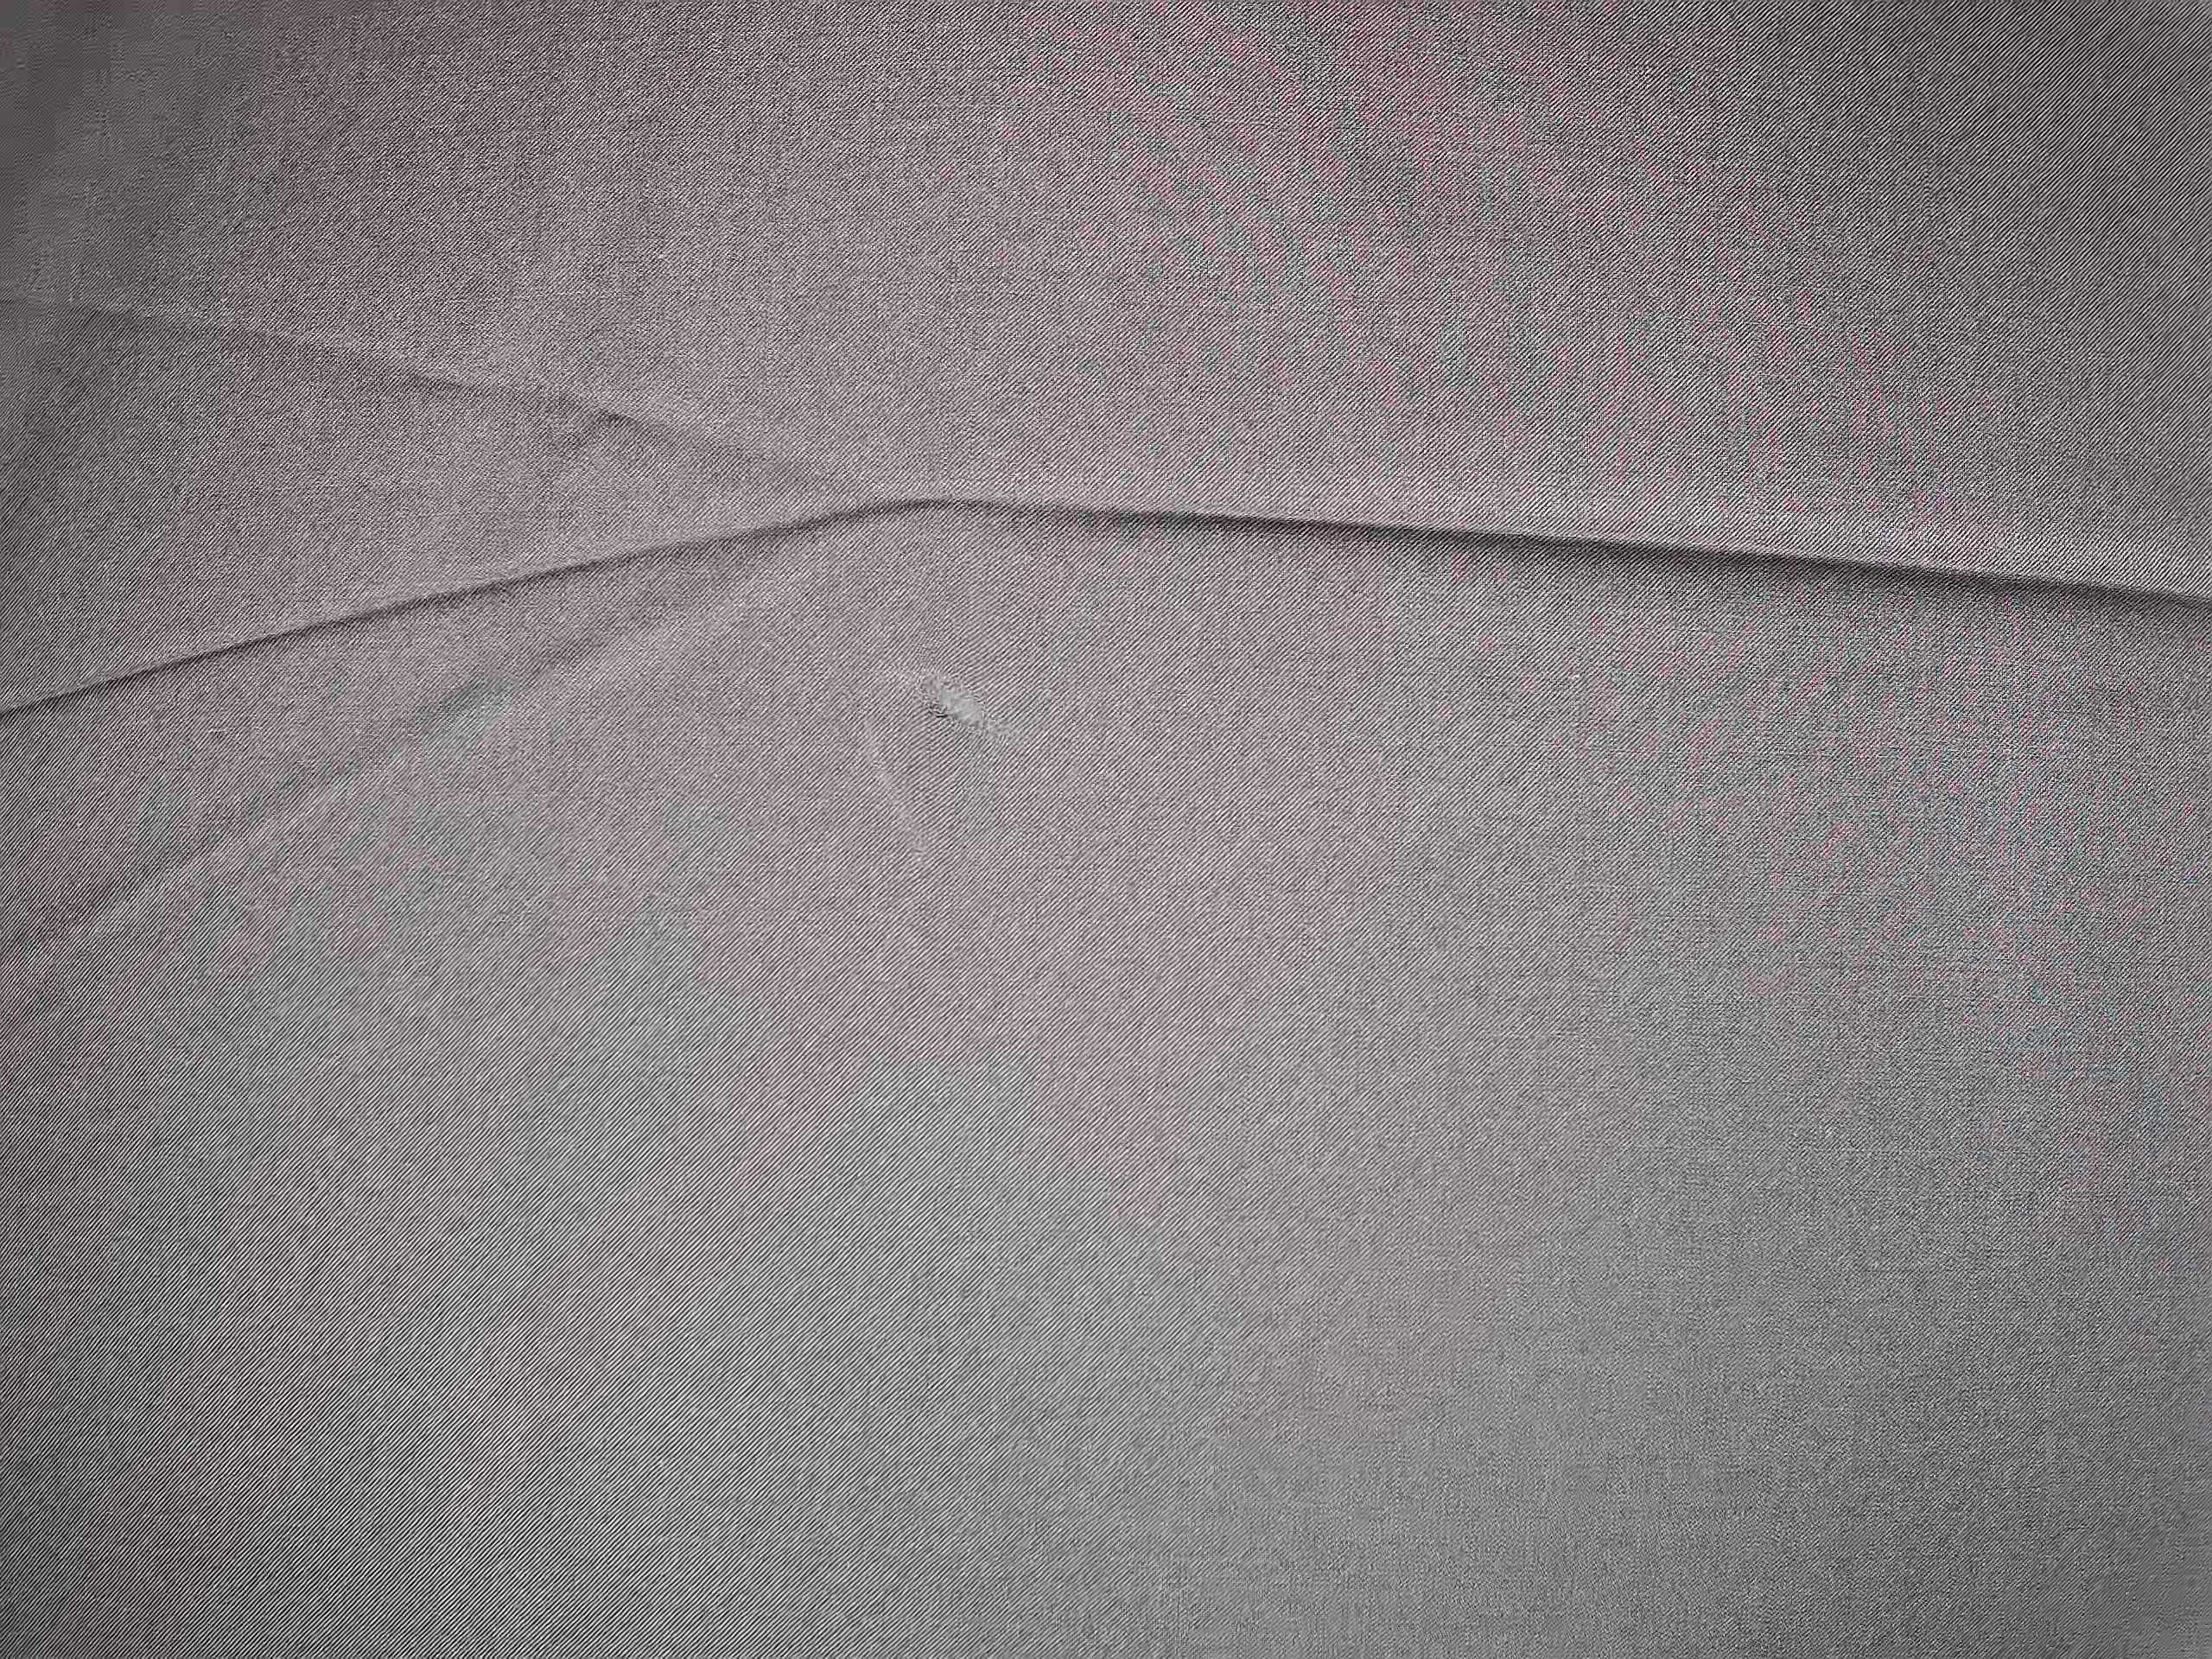rubbing-hole: (894, 659, 1000, 749)
